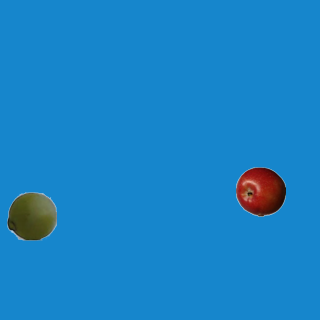Apple Braeburn: (235, 166, 285, 216)
Grape White 4: (6, 190, 56, 240)
